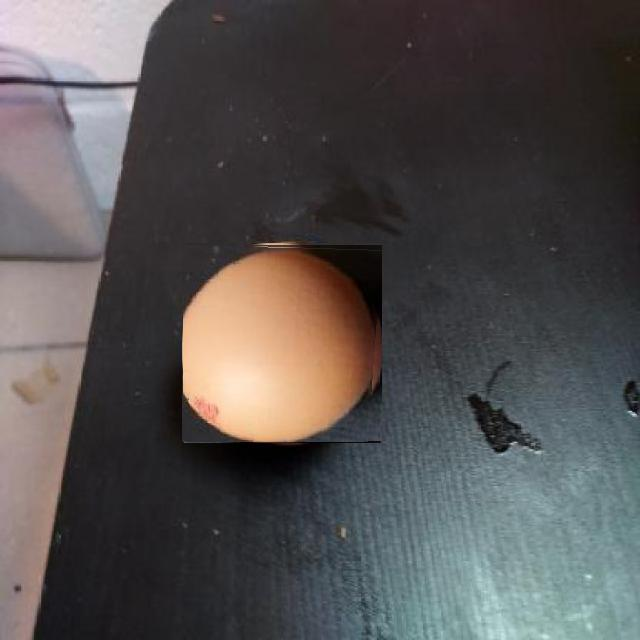biodegradable: (183, 244, 382, 442)
